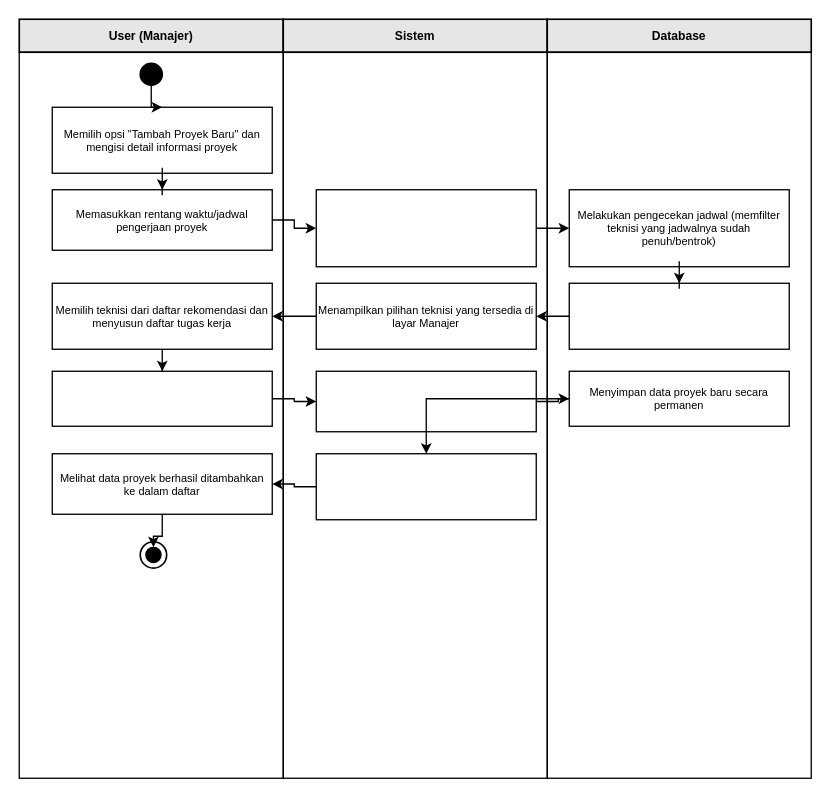
Image size: 832x799. Some labels were removed from this diagram. Each missing label, with the centre of its shape:
Memproses penyimpanan data proyek dan alokasi tugas: (425,401)
Menampilkan pesan sukses dan mendistribusikan notifikasi penugasan baru: (425,486)
Menekan tombol "Simpan Proyek": (161,398)
Menerima input jadwal dan mengirimkan permintaan pengecekan ketersediaan teknisi: (425,228)
Mengirimkan daftar teknisi yang berstatus tersedia (available): (678,315)
